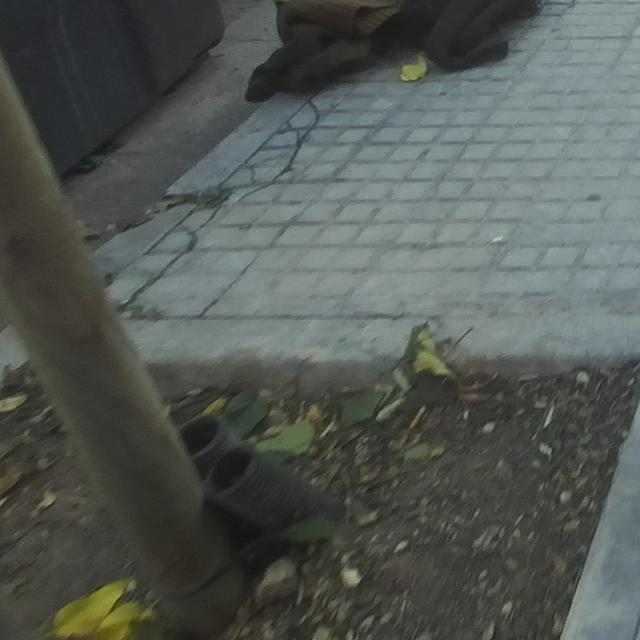calcada_quebrada: (236, 96, 323, 205), (115, 239, 197, 314), (201, 255, 256, 317), (188, 199, 223, 235)
